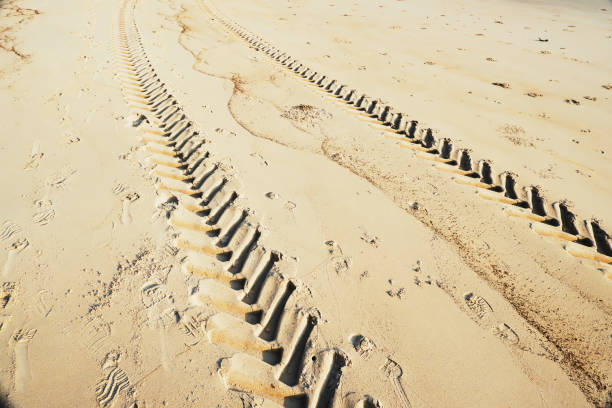vehicle_track: (205, 3, 611, 278), (116, 0, 379, 407)
